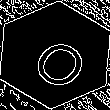O_NE: (19, 22, 91, 88)
